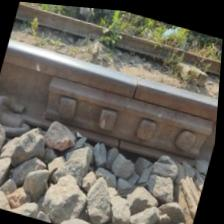person: (102, 54, 172, 120), (107, 127, 135, 157)
